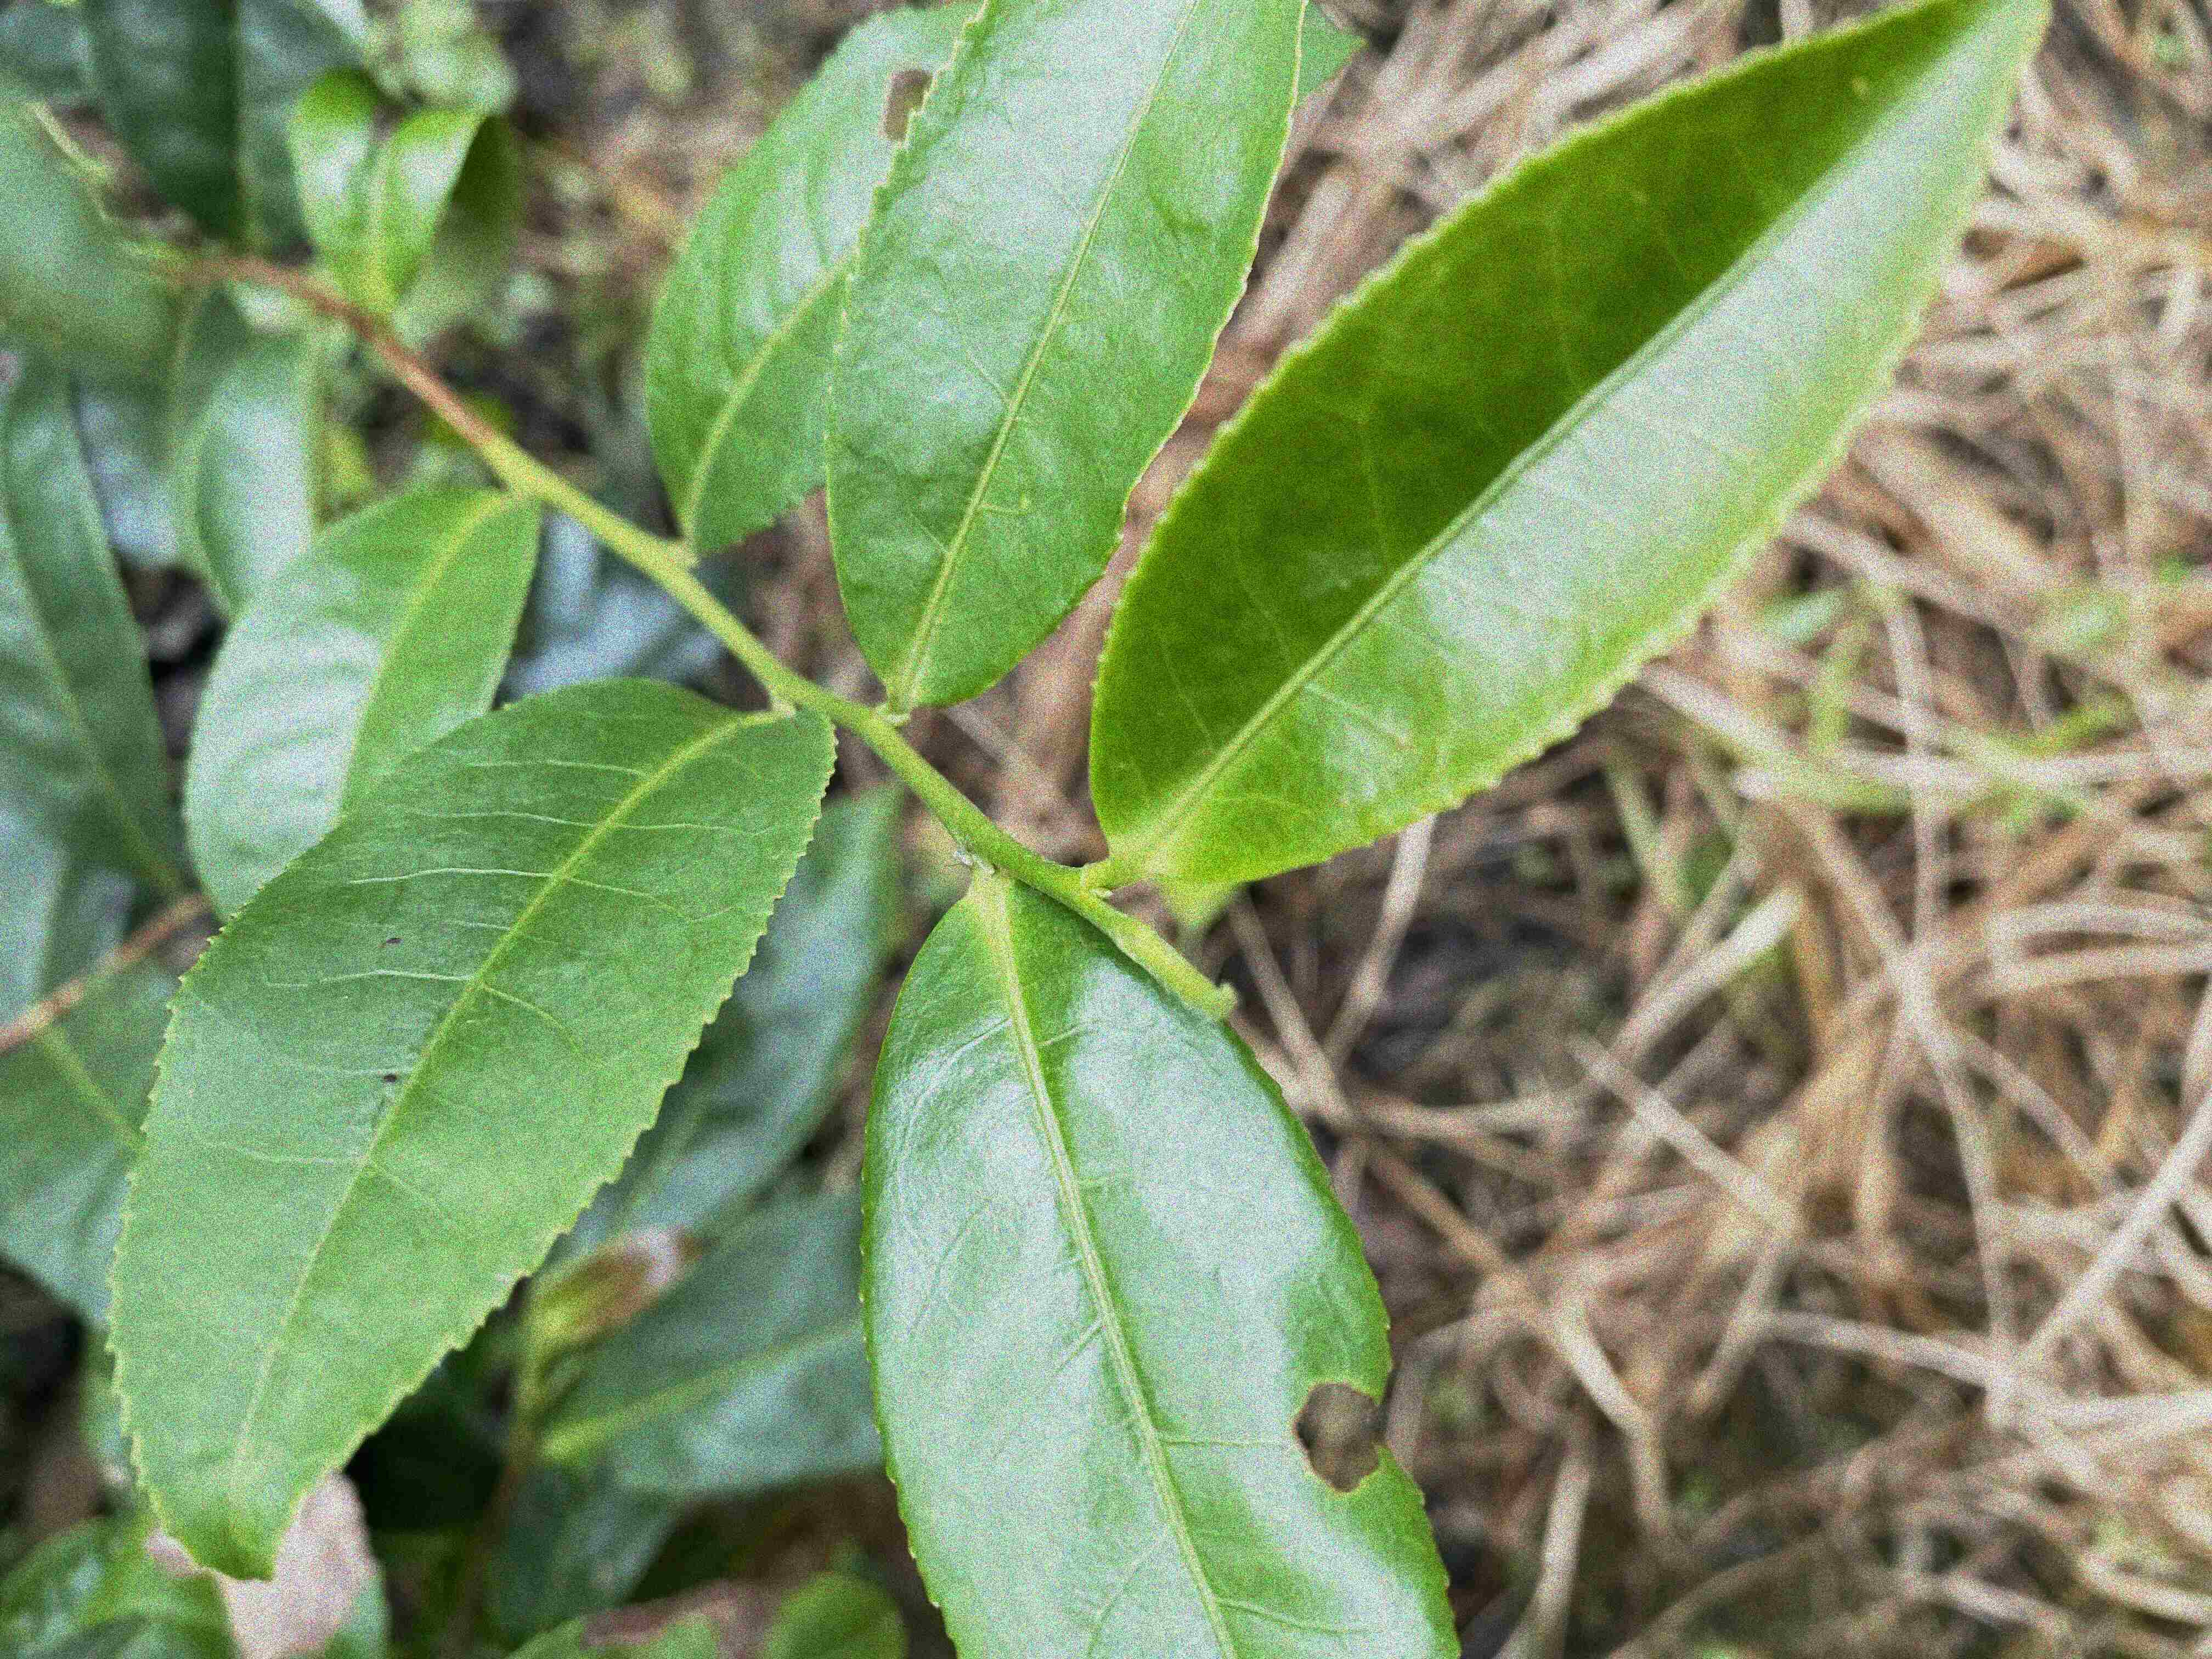chihuo_low: (853, 880, 1463, 1657), (637, 7, 1367, 561)
healthy: (1089, 3, 2057, 889), (103, 676, 841, 1586), (822, 3, 1308, 709)
